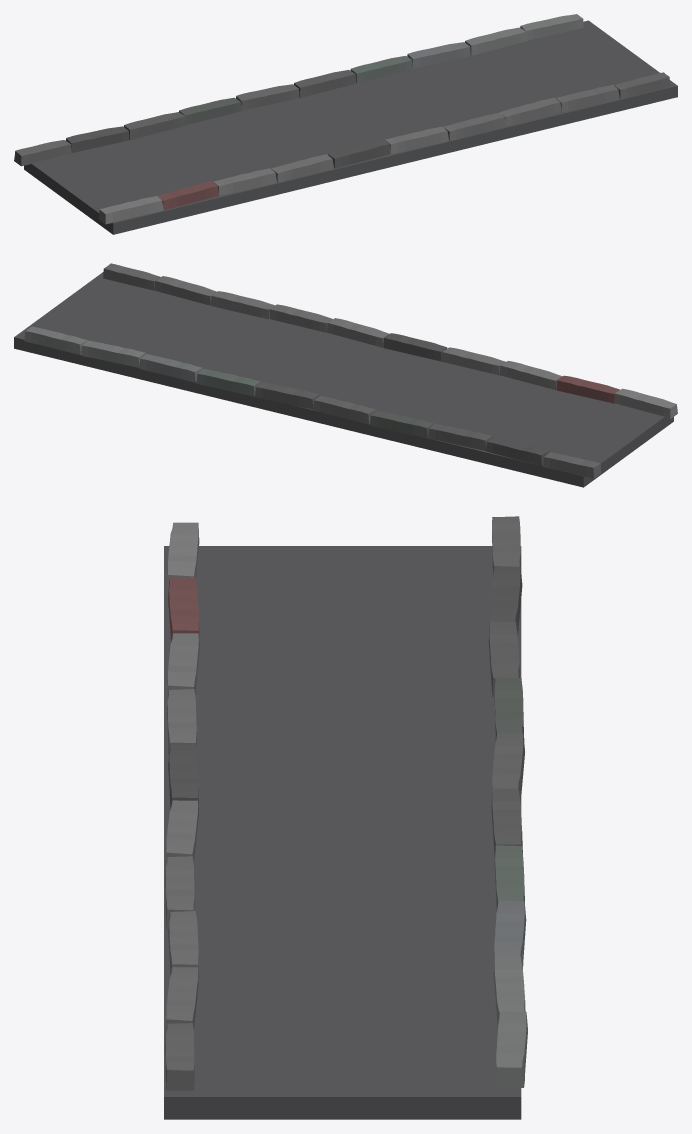
3 views of the same model, one above another, from view 1: azimuth 30°, elevation 25°; view 2: azimuth 150°, elevation 25°; view 3: azimuth 270°, elevation 25° (orthographic). The views are drawn at different scales.
Visible parts, largest first — view 1: Cube, Cube.021, Cube.003, Cube.006, Cube.009, Cube.013, Cube.016, Cube.017, Cube.007, Cube.019, Cube.004, Cube.010 (+9 smaller); view 2: Cube, Cube.021, Cube.008, Cube.010, Cube.017, Cube.007, Cube.014, Cube.005, Cube.009, Cube.004, Cube.020, Cube.015 (+9 smaller); view 3: Cube, Cube.011, Cube.012, Cube.006, Cube.003, Cube.007, Cube.013, Cube.016, Cube.004, Cube.009, Cube.020, Cube.010 (+9 smaller).
Boxes of the visible parts, x1,y1,x2,y2 form: Cube: [24, 20, 677, 234]; Cube.021: [99, 196, 163, 224]; Cube.003: [65, 126, 129, 153]; Cube.006: [236, 84, 299, 110]; Cube.009: [407, 42, 470, 68]; Cube.013: [555, 85, 619, 112]; Cube.016: [385, 126, 448, 154]; Cube.017: [328, 139, 390, 168]; Cube.007: [294, 70, 356, 97]; Cube.019: [213, 168, 276, 195]; Cube.004: [124, 112, 185, 139]; Cube.010: [465, 27, 526, 55]; Cube: [14, 272, 673, 487]; Cube.021: [614, 388, 677, 418]; Cube.008: [196, 368, 260, 396]; Cube.010: [81, 340, 145, 367]; Cube.017: [383, 333, 447, 361]; Cube.007: [255, 382, 319, 409]; Cube.014: [211, 291, 274, 319]; Cube.005: [370, 410, 433, 438]; Cube.009: [139, 354, 202, 382]; Cube.004: [428, 423, 492, 450]; Cube.020: [556, 375, 619, 403]; Cube.015: [269, 304, 332, 332]; Cube: [164, 546, 521, 1119]; Cube.011: [496, 1011, 527, 1087]; Cube.012: [165, 1023, 194, 1090]; Cube.006: [492, 732, 524, 802]; Cube.003: [489, 566, 522, 637]; Cube.007: [491, 788, 522, 858]; Cube.013: [164, 967, 198, 1039]; Cube.016: [164, 800, 198, 873]; Cube.004: [488, 621, 519, 696]; Cube.009: [494, 900, 526, 968]; Cube.020: [168, 577, 199, 650]; Cube.010: [493, 956, 525, 1027].
Size of the model in its own units: 5.22 by 0.19 by 1.43.
